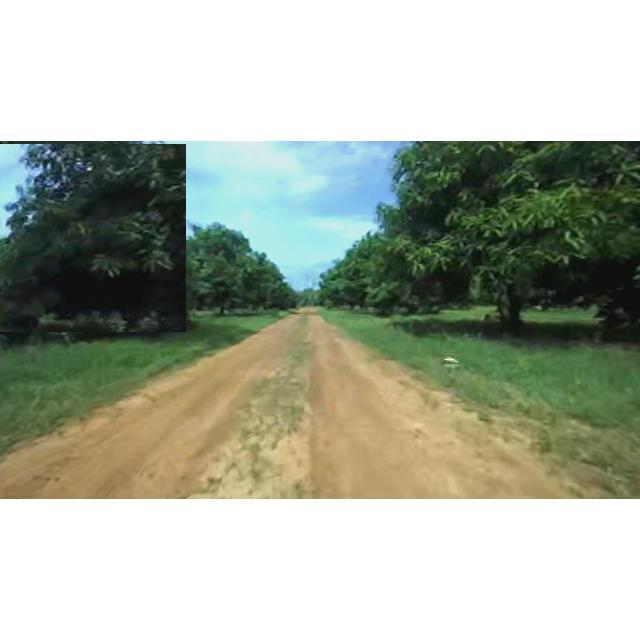direk: (380, 143, 640, 341), (0, 144, 186, 332), (316, 213, 462, 317), (170, 213, 286, 325)
